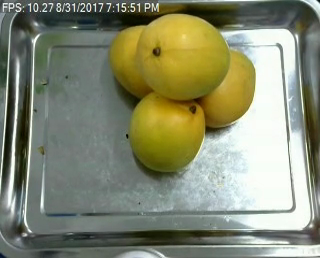Mango: (137, 14, 229, 101), (129, 92, 205, 173), (187, 50, 257, 127), (110, 25, 161, 97)
